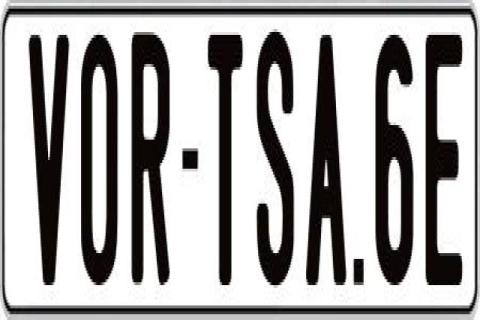0: (78, 35, 122, 294), (374, 29, 415, 282)
A: (305, 35, 349, 285)
E: (424, 32, 462, 285)
R: (128, 26, 170, 282)
S: (257, 32, 297, 296)
T: (208, 32, 242, 288)
V: (27, 26, 67, 282)
